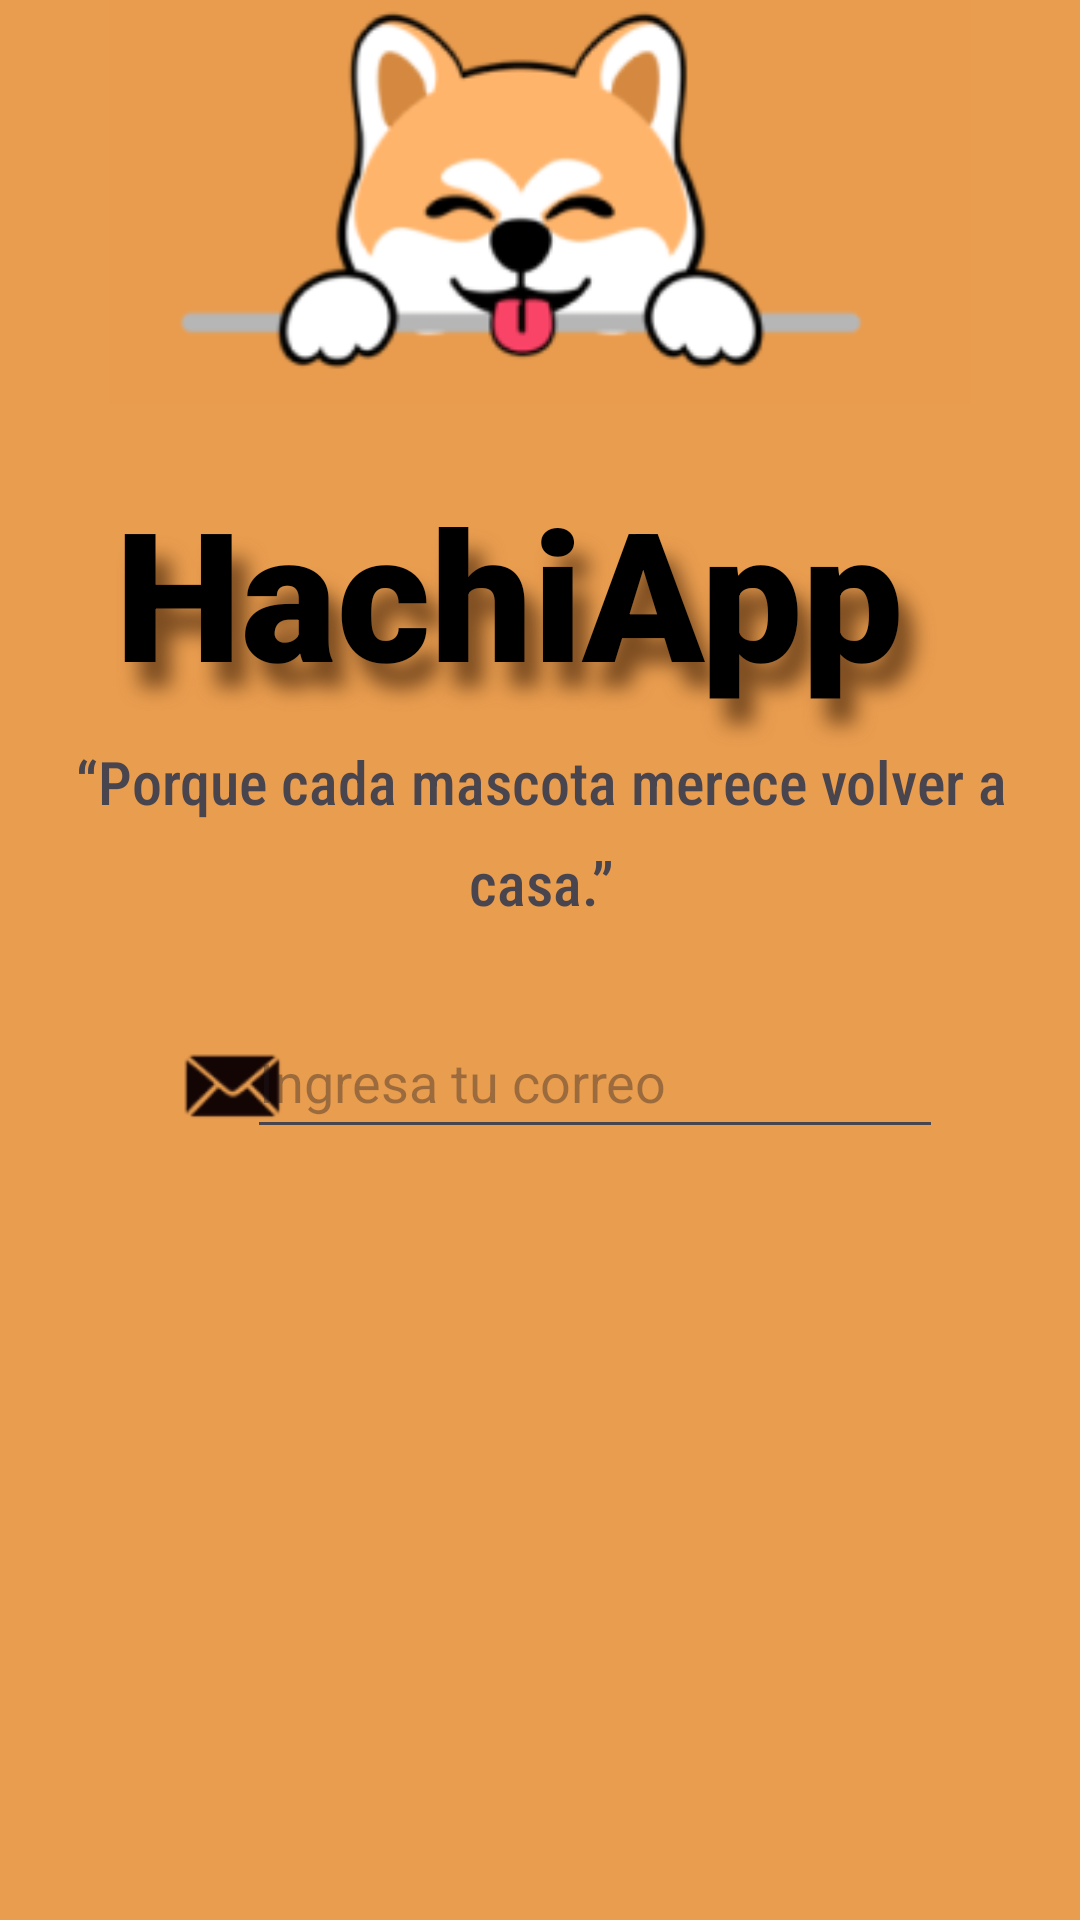

Point at icon controls on the screen. Image size 1080w x 1920h, points as (x,y).
Icono de correo electrónico: (242,1085)
